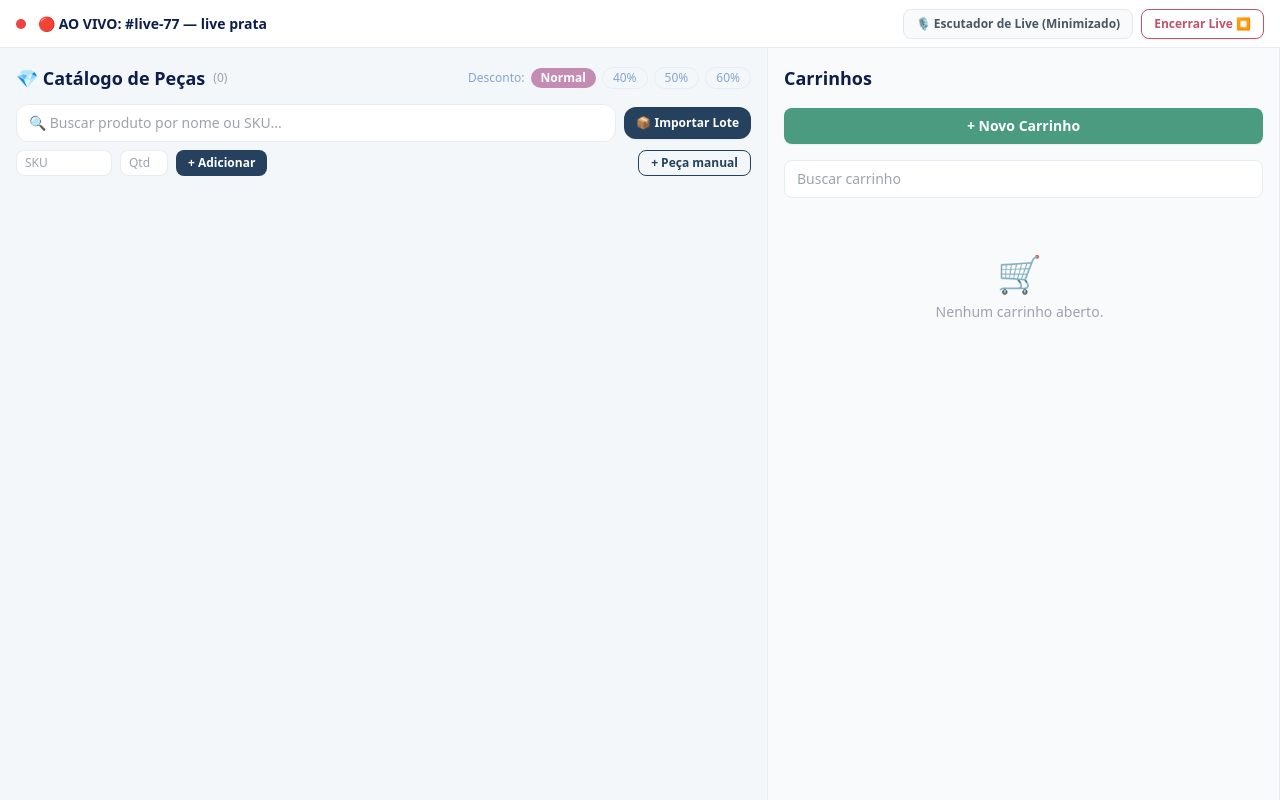
LivePage — Importar Lote › selecionar o lote adiciona só as artes com sku e recarrega o catálogo
The width and height of the screenshot is (1280, 800).
Click the button "📦 Importar Lote" at (688, 123), box [624,107,751,139]
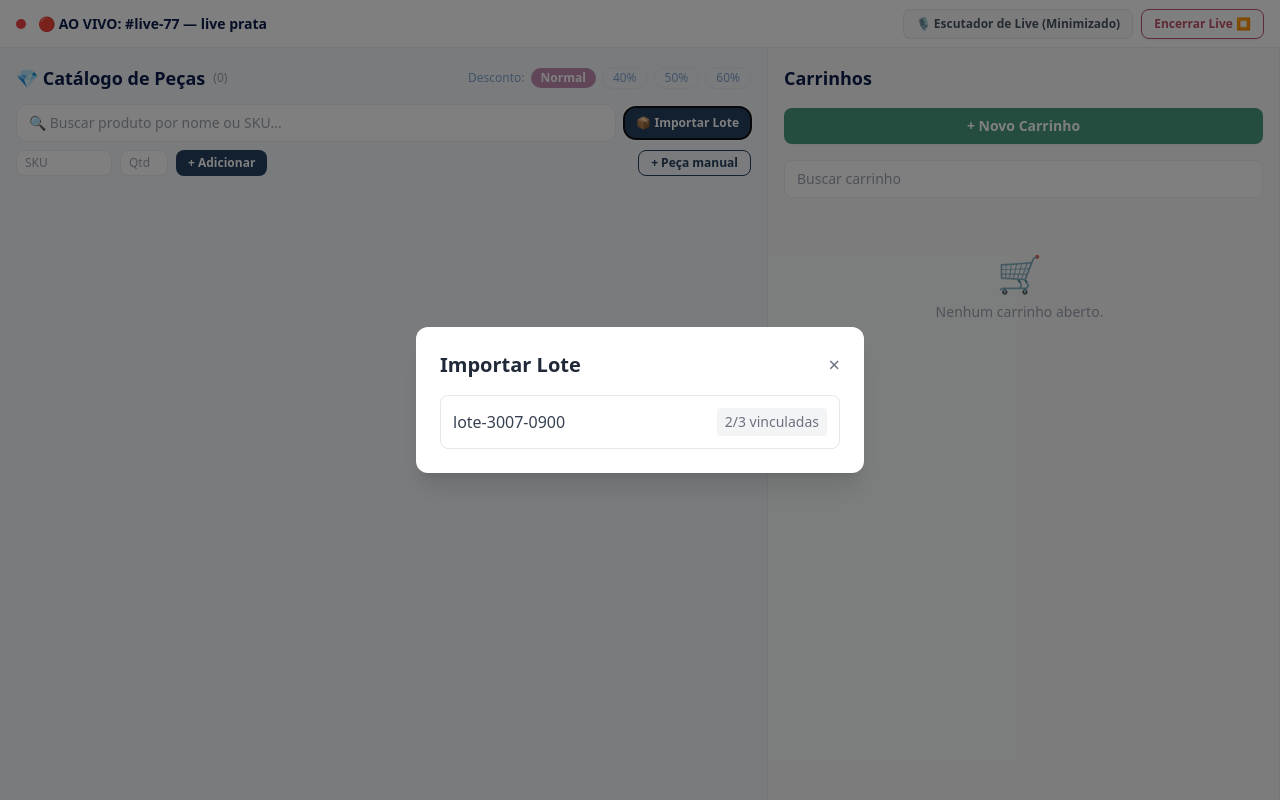
Click the text "lote-3007-0900" at (509, 422), box [453,410,565,434]
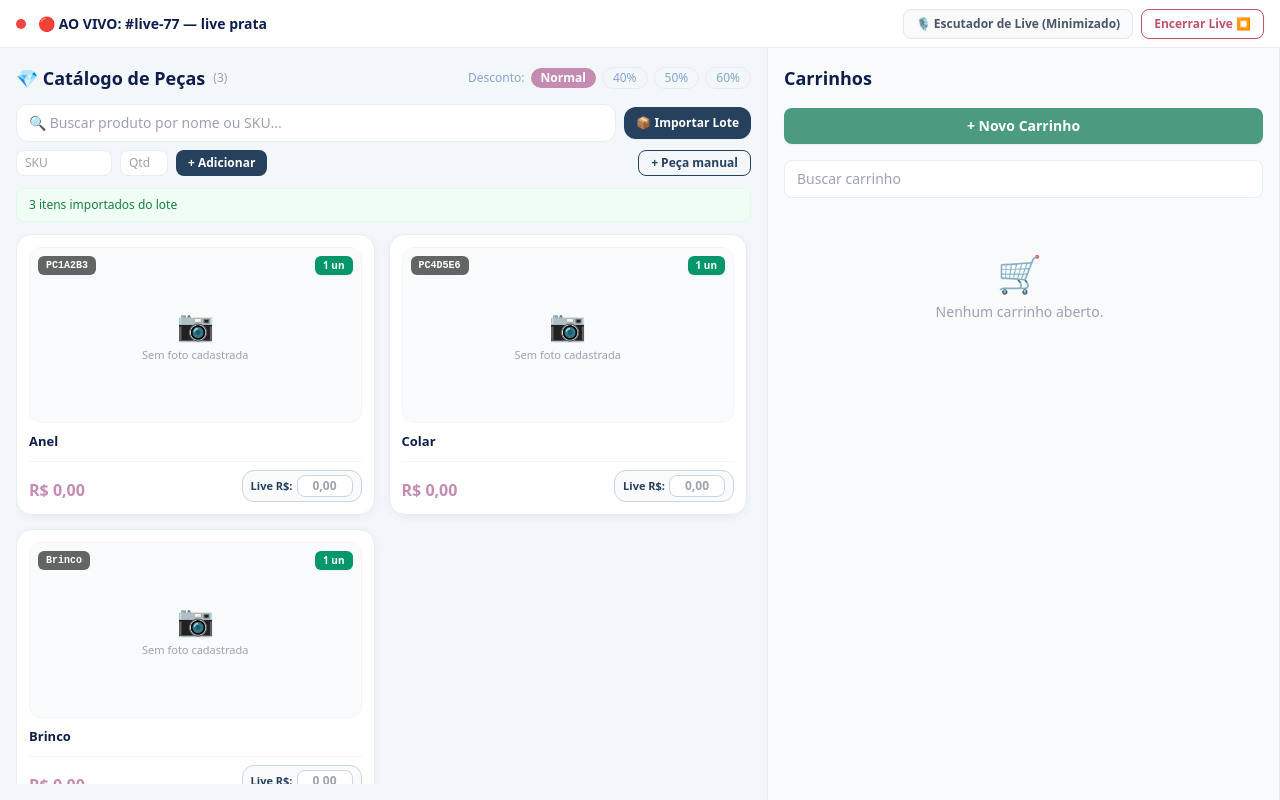
Result: the text "3 itens importados do lote" is shown at [16,188,751,222]
